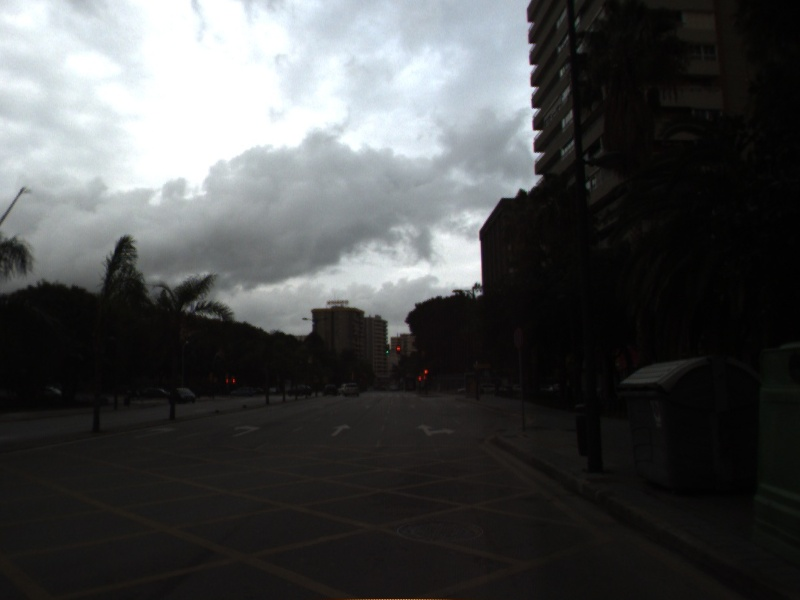LEFT: (133, 423, 180, 440), (228, 423, 262, 439)
STRAIGHT: (328, 422, 354, 439)
STRAIGHT_RIGHT: (412, 421, 458, 439)
